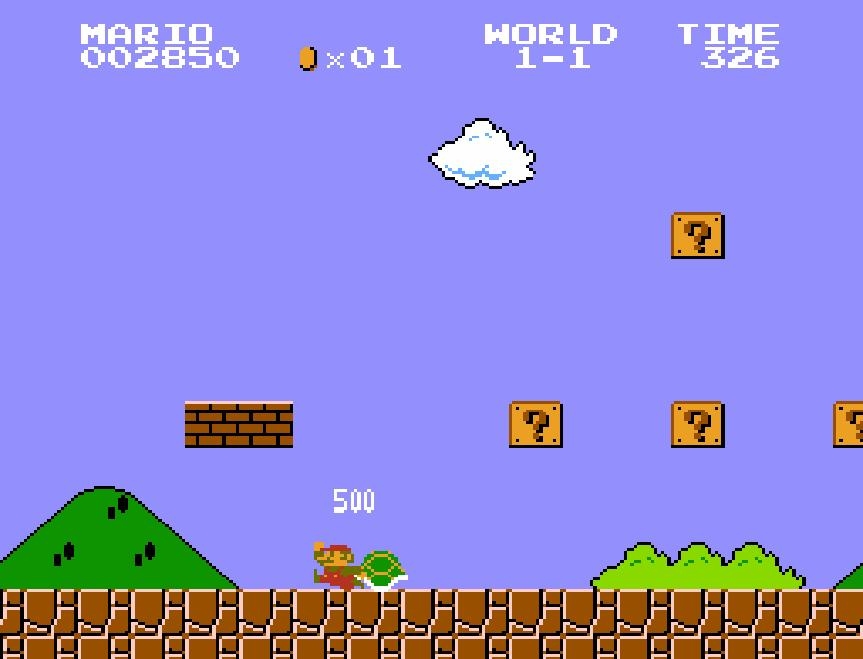little_mario: (311, 541, 369, 591)
